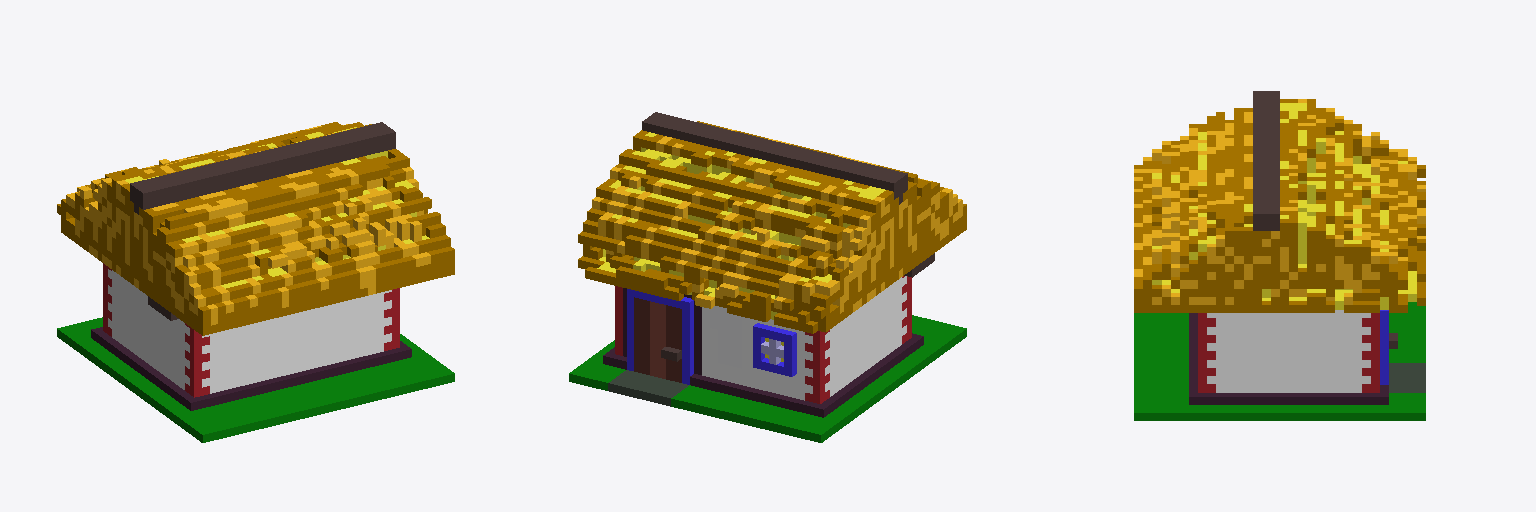
3 views of the same model, side by side, from view 1: azimuth 30°, elevation 25°; view 2: azimuth 150°, elevation 25°; view 3: azimuth 270°, elevation 25° (orthographic).
Parts seen in each view (by area): view 1: object 1; view 2: object 1; view 3: object 1.
Part boxes in pixels (x1,y1,x2,y2): object 1: (57, 122, 454, 442); object 1: (569, 112, 966, 442); object 1: (1134, 91, 1425, 420).
Size of the model in its own units: 3.2 by 2.5 by 3.2.
Materials: 1 (1 with a texture image).